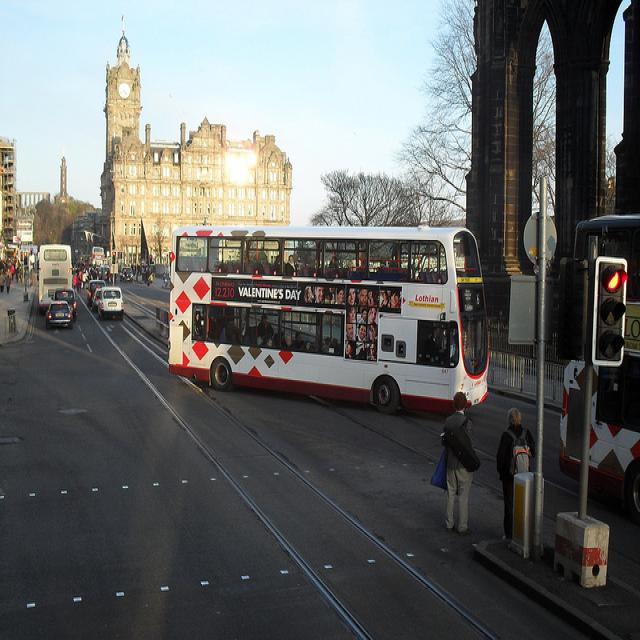Vehicle: (168, 226, 490, 410), (562, 213, 640, 523), (36, 244, 73, 310), (98, 286, 124, 320), (45, 302, 74, 332), (53, 287, 77, 322), (85, 280, 106, 303), (91, 288, 102, 310), (119, 266, 134, 282)
